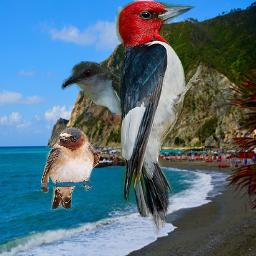Cuckoo: (61, 61, 156, 217)
Swallow: (41, 127, 100, 210)
Woodpecker: (112, 1, 210, 236)
